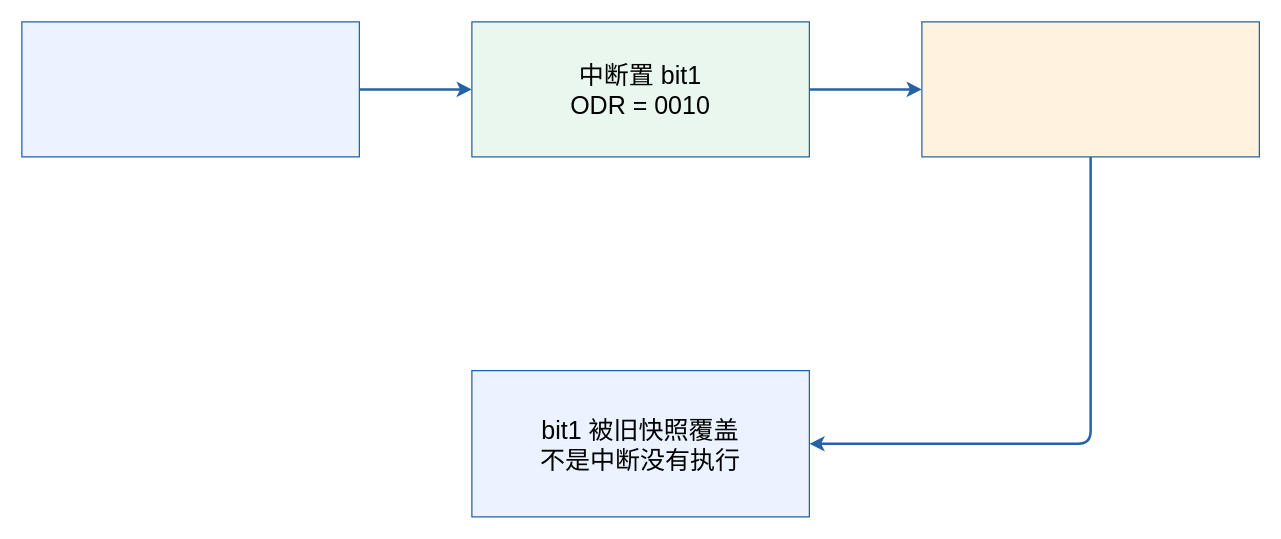
The diagram is 1281 pixels wide and 539 high, and some of its shapes have lost their labels. The box of each missing label's shape, as (x1, y1, x2, y2) in pixels:
主循环基于旧值置 bit0 写回 ODR = 0001: (921, 21, 1259, 157)
主循环读取 ODR = 0000: (21, 21, 359, 157)
